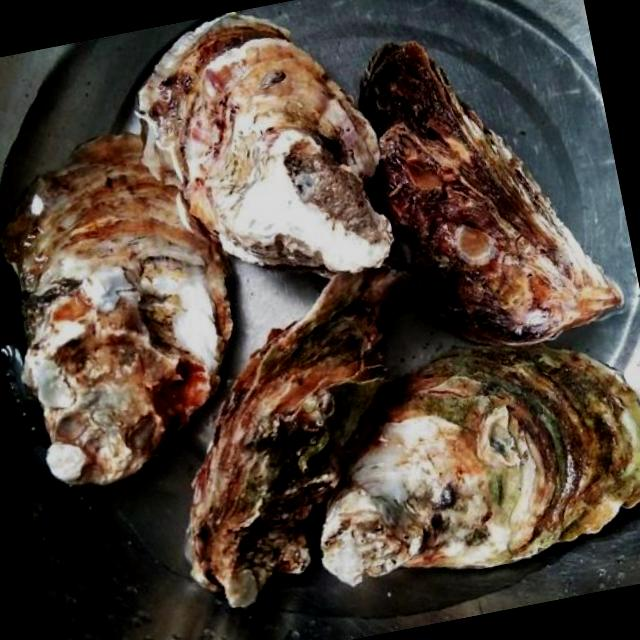Oyster-Closed: (0, 132, 234, 486), (356, 39, 622, 344), (184, 263, 413, 609), (321, 342, 640, 587), (134, 14, 392, 274)
